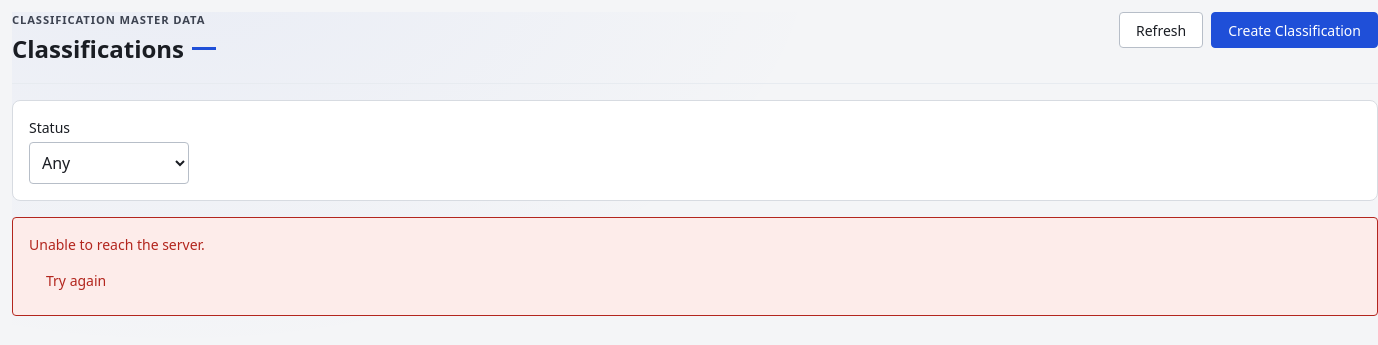
Scenario: ClassificationListPage › shows an error state with a working retry
This screenshot has width=1378, height=345.
Expected: the message shows "reach the server", [29, 235, 205, 254]
Click the button "Try again" at (76, 281), box [29, 263, 123, 299]
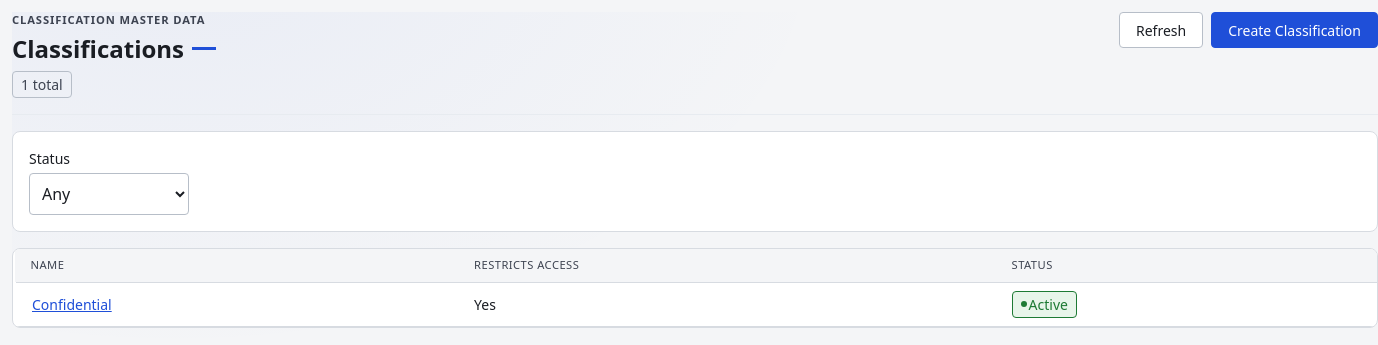
Expected: the link "Confidential" is shown, [32, 295, 112, 314]
